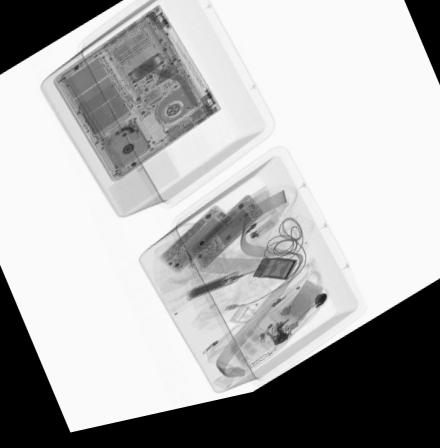Lighter: (247, 227, 278, 252)
